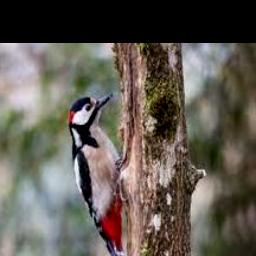Woodpecker: (69, 92, 129, 256)
